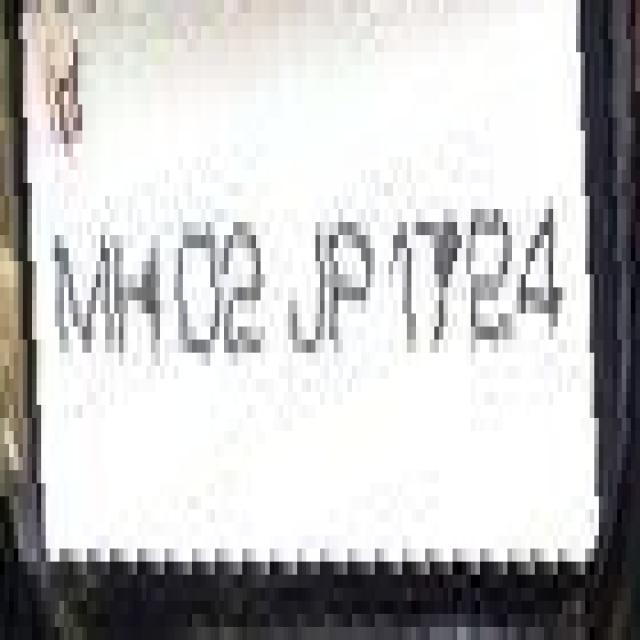license_plate: (9, 26, 599, 575)
